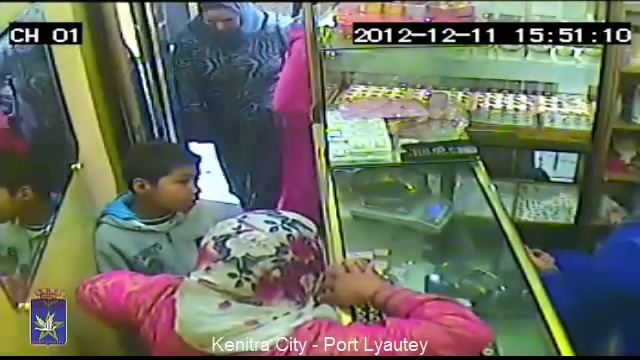face: (147, 159, 200, 210), (200, 7, 239, 34)
